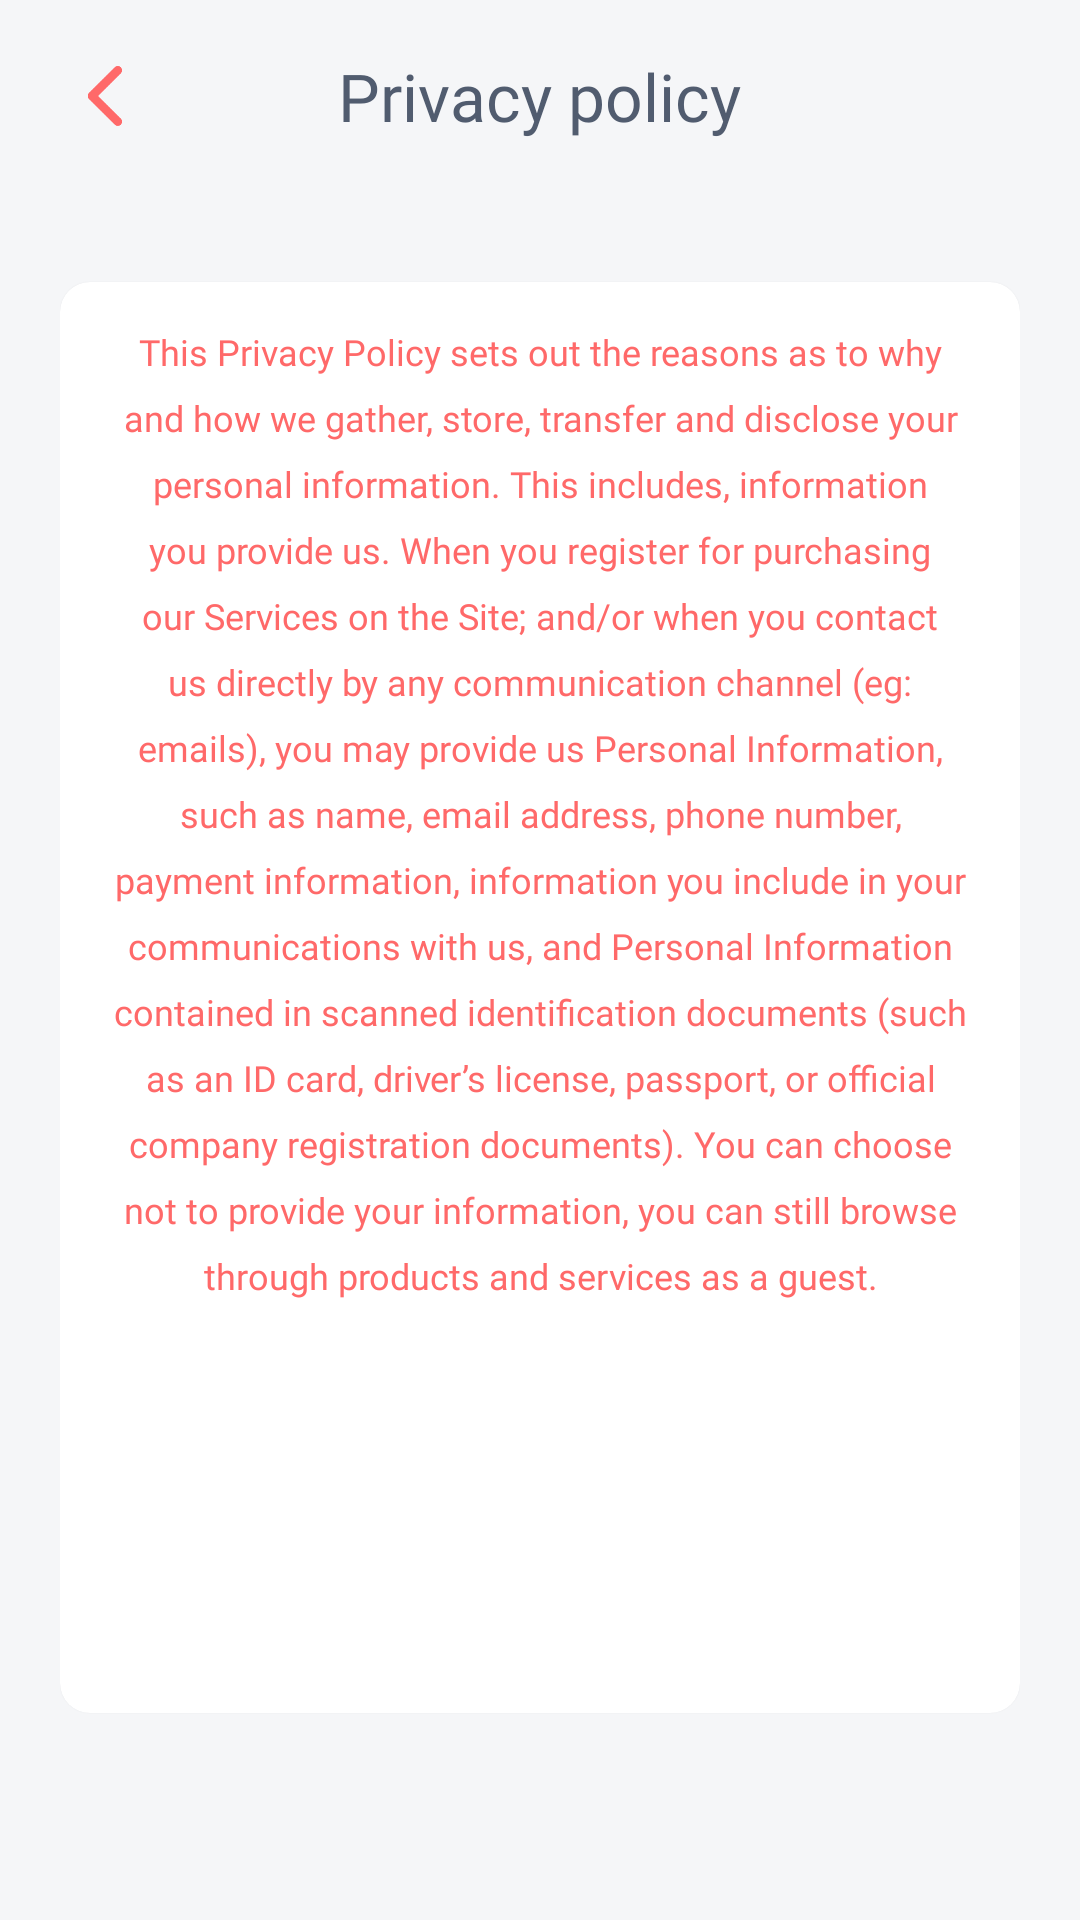

Icons on this 1080px x 1920px Android screen, each with its box as [x1=x1, y1=y1, x2=x2, y2=y2]:
back: [x1=88, y1=66, x2=122, y2=126]
